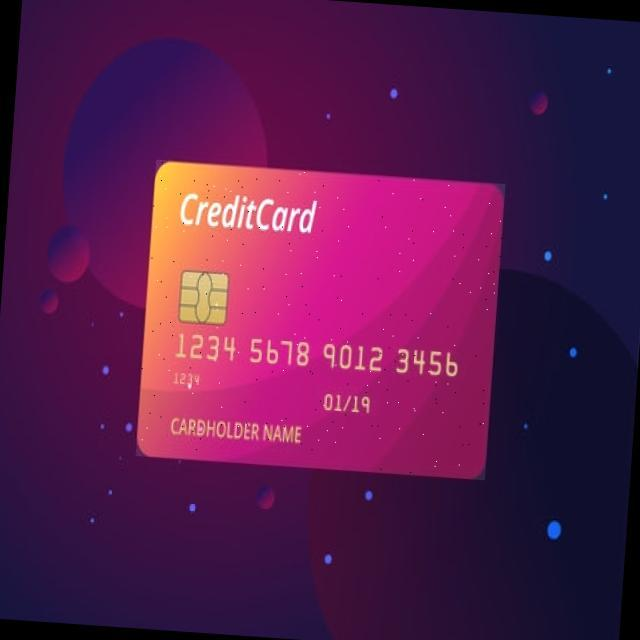payment_card: (134, 158, 506, 481)
